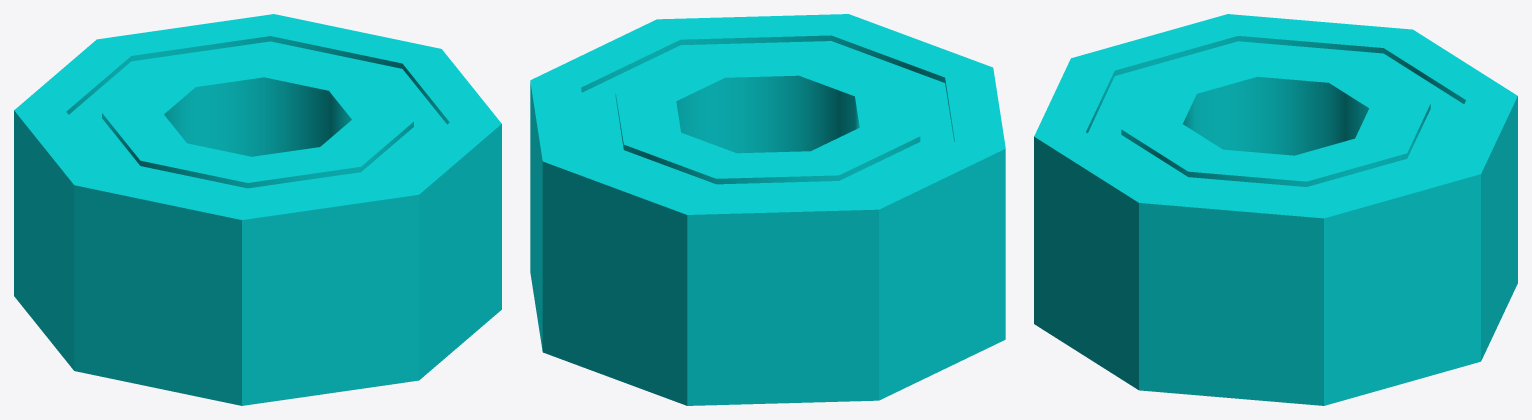
File: komono1.fbx
The picture shows the model from 3 angles, left to right: view 1: azimuth 30°, elevation 25°; view 2: azimuth 150°, elevation 25°; view 3: azimuth 270°, elevation 25°; orthographic projection. The views are drawn at different scales.
Parts seen in each view (by area): view 1: Cylinder.009; view 2: Cylinder.009; view 3: Cylinder.009.
Part boxes in pixels (box(x1,y1,x2,y2)): Cylinder.009: box(14, 14, 501, 405); Cylinder.009: box(530, 14, 1005, 405); Cylinder.009: box(1034, 14, 1517, 405).
Bounding box in the file's own units: 9.94 × 4.25 × 9.94.
